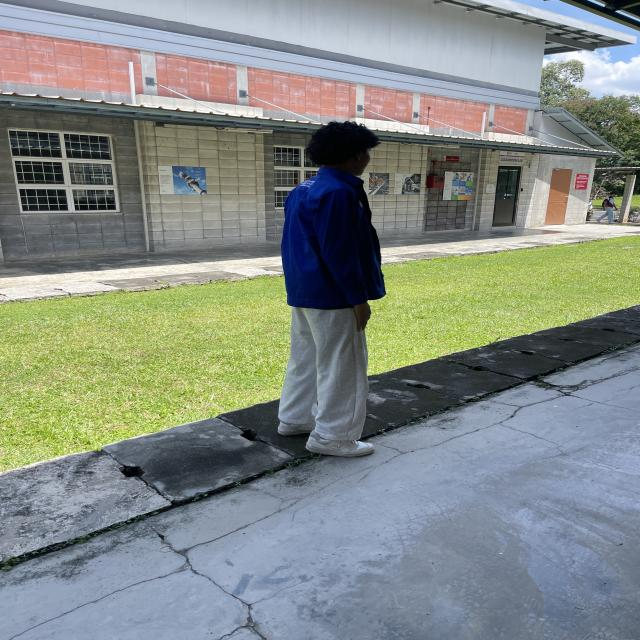person_with_labcoat: (278, 122, 385, 457)
